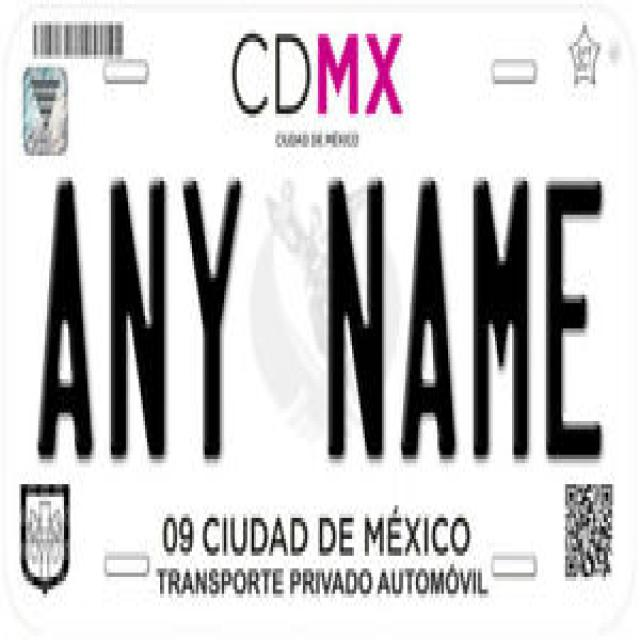placa: (15, 157, 620, 470)
